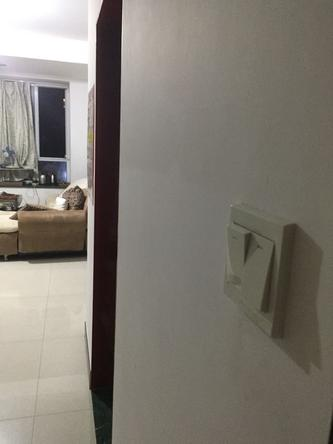switch: (243, 223, 281, 314), (225, 219, 250, 291)
